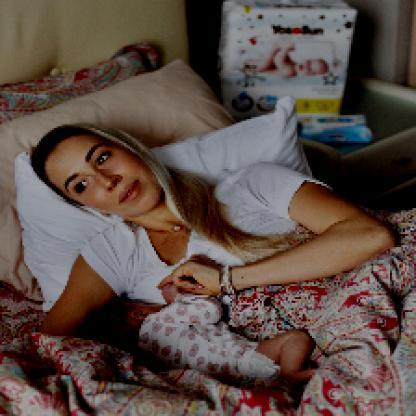child: (84, 283, 318, 384)
